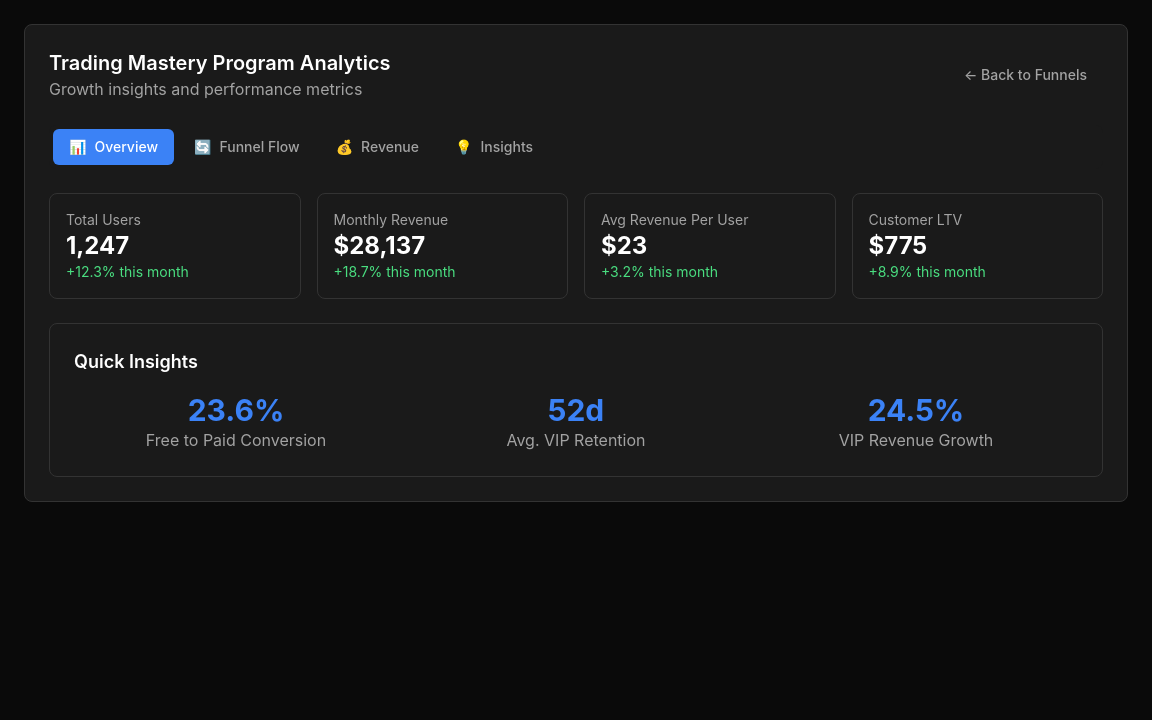
Test: AnalyticsDashboard Component › switches to insights tab and displays growth insights
Step 1. Click the text "Insights" → point(507, 147), box top-left (480, 137), bottom-right (533, 157)
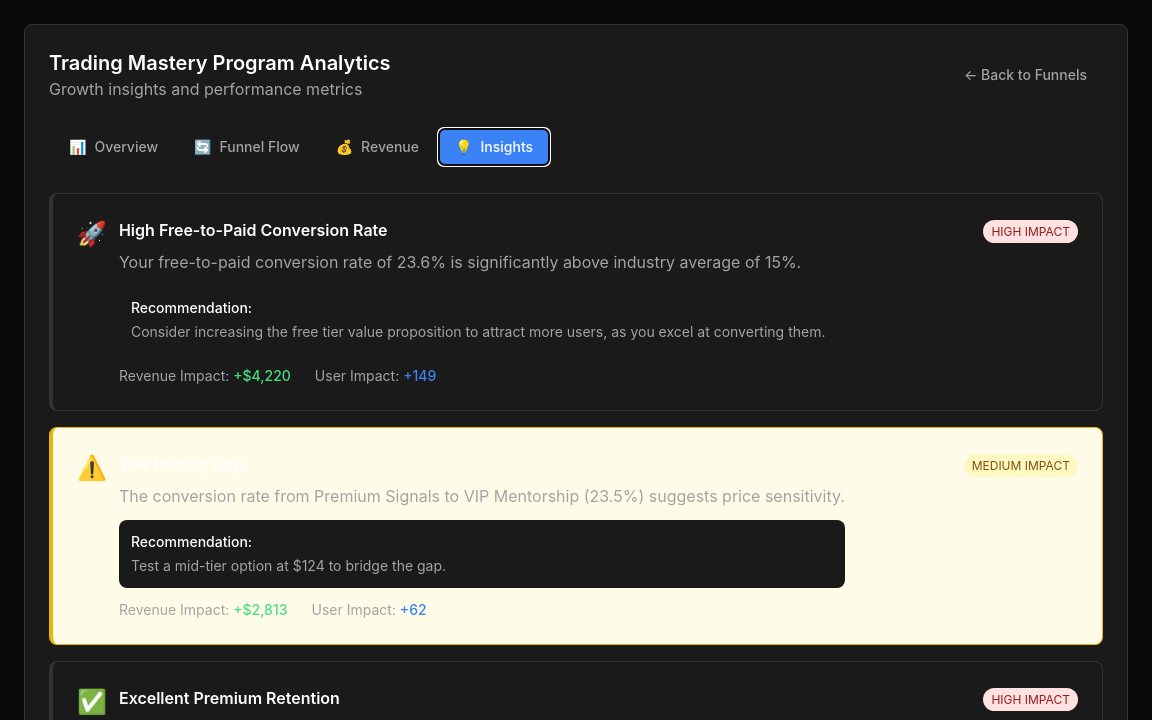
Check: the heading "High Free-to-Paid Conversion Rate" is shown, box top-left (119, 220), bottom-right (388, 240)
Check: the heading "Excellent Premium Retention" is shown, box top-left (119, 688), bottom-right (340, 708)
